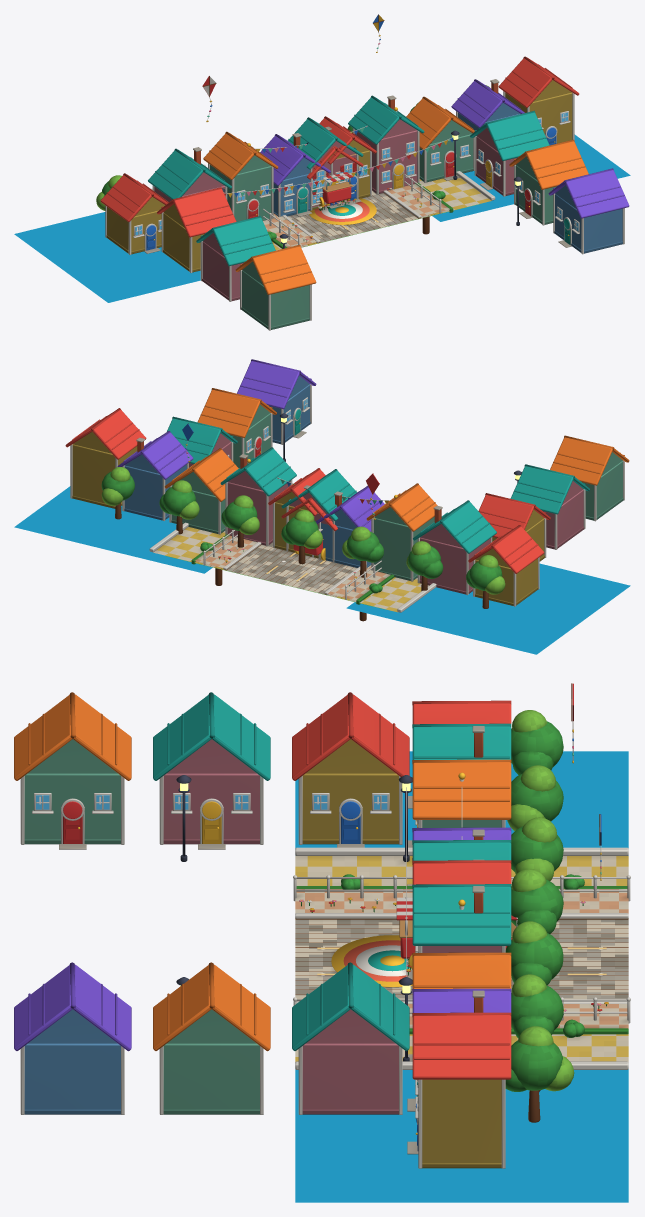
Rendered from runner.glb.
3 renders of one model, top to bottom at view 1: azimuth 30°, elevation 25°; view 2: azimuth 150°, elevation 25°; view 3: azimuth 270°, elevation 25°, orthographic. The views are drawn at different scales.
Visible parts, largest first — view 1: Run_backdrop_Gloss, Run_backdrop_Satin, Run_track_pier_Water, Run_track_town_Satin, Run_plaza_Satin, Run_house1_Gloss, Run_plaza_Matte, Run_house1_Satin; view 2: Run_backdrop_Satin, Run_backdrop_Gloss, Run_track_pier_Water, Run_track_town_Satin, Run_plaza_Satin, Run_house1_Gloss, Run_track_pier_Matte, Run_track_pier_Satin; view 3: Run_backdrop_Satin, Run_backdrop_Gloss, Run_track_pier_Water, Run_track_town_Satin, Run_plaza_Satin, Run_plaza_Matte, Run_track_pier_Matte, Run_house1_Gloss, Run_track_garden_Satin, Run_track_pier_Gloss, Run_track_pier_Satin, Run_cart_Satin.
Boxes of the visible parts, left/top/right/bottom form: Run_backdrop_Gloss: left=100, top=56, right=629, bottom=294; Run_backdrop_Satin: left=96, top=14, right=624, bottom=330; Run_track_pier_Water: left=14, top=134, right=630, bottom=302; Run_track_town_Satin: left=263, top=182, right=453, bottom=248; Run_plaza_Satin: left=151, top=171, right=495, bottom=250; Run_house1_Gloss: left=288, top=117, right=363, bottom=207; Run_plaza_Matte: left=309, top=198, right=376, bottom=224; Run_house1_Satin: left=310, top=141, right=358, bottom=210; Run_backdrop_Satin: left=70, top=376, right=624, bottom=608; Run_backdrop_Gloss: left=65, top=359, right=629, bottom=573; Run_track_pier_Water: left=14, top=486, right=630, bottom=654; Run_track_town_Satin: left=191, top=534, right=394, bottom=604; Run_plaza_Satin: left=149, top=522, right=436, bottom=612; Run_house1_Gloss: left=281, top=469, right=356, bottom=520; Run_track_pier_Matte: left=210, top=545, right=353, bottom=597; Run_track_pier_Satin: left=203, top=530, right=375, bottom=621; Run_backdrop_Satin: left=20, top=683, right=601, bottom=1168; Run_backdrop_Gloss: left=14, top=692, right=511, bottom=1150; Run_track_pier_Water: left=295, top=751, right=628, bottom=1202; Run_track_town_Satin: left=295, top=886, right=628, bottom=1034; Run_plaza_Satin: left=295, top=847, right=628, bottom=1069; Run_plaza_Matte: left=331, top=935, right=412, bottom=987; Run_track_pier_Matte: left=295, top=919, right=628, bottom=994; Run_house1_Gloss: left=412, top=840, right=511, bottom=860; Run_track_garden_Satin: left=295, top=874, right=628, bottom=1037; Run_track_pier_Gloss: left=296, top=877, right=627, bottom=1013; Run_track_pier_Satin: left=293, top=875, right=630, bottom=1023; Run_cart_Satin: left=396, top=897, right=517, bottom=937.
Bounding box in the file's own units: 38.4 × 11.32 × 22.2.
